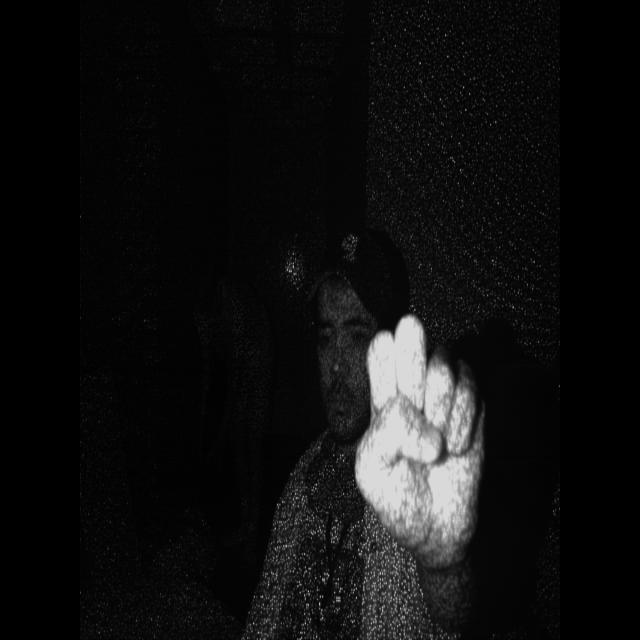S: (350, 297, 493, 590)
